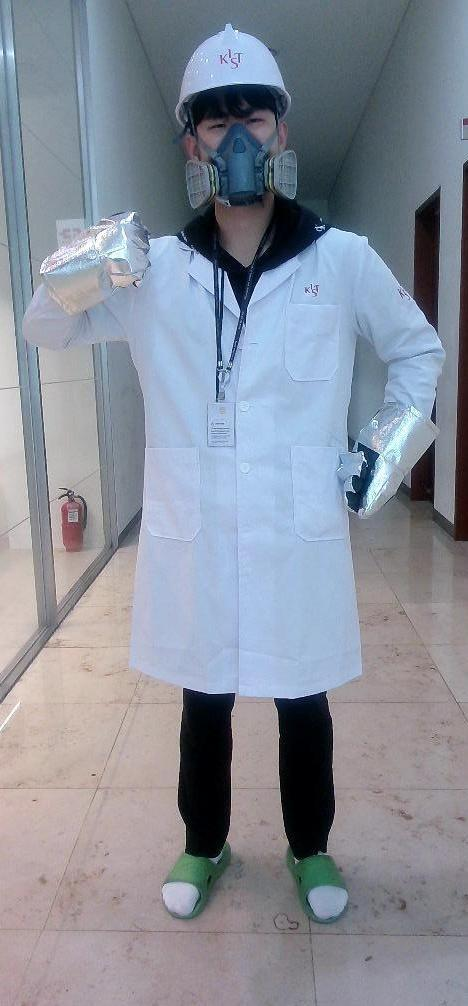lab_coat: (142, 248, 358, 709)
